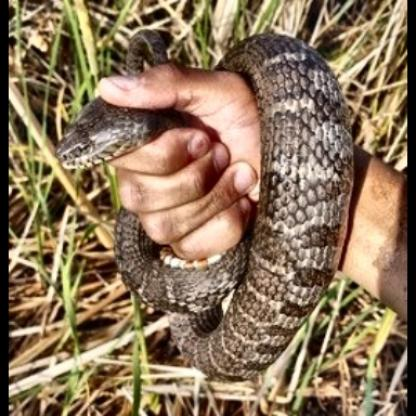Snake: (19, 27, 407, 394)
